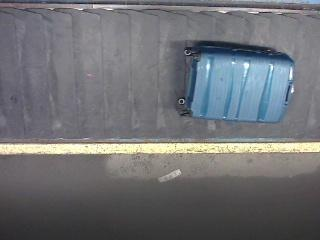Suitcase: (177, 42, 295, 122)
